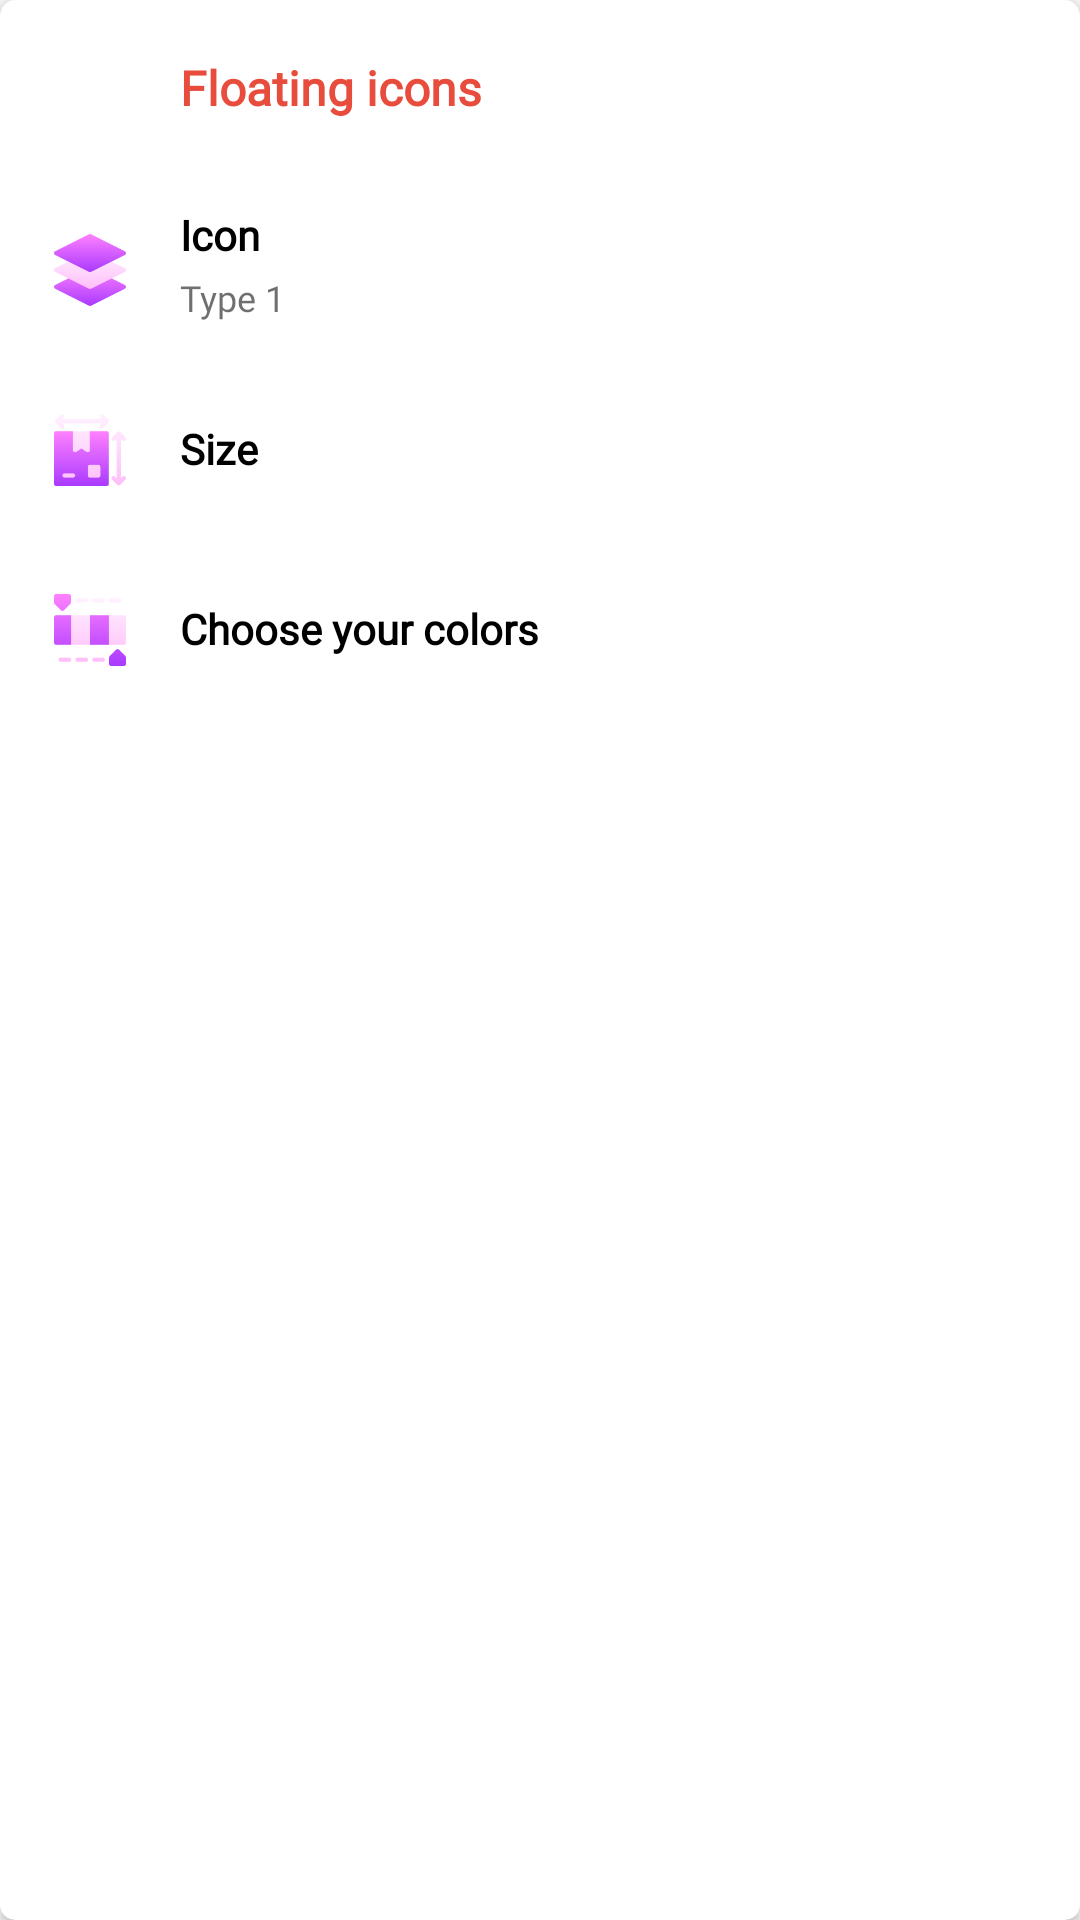

Named icons in this screenshot (1080×1920) and their centers, point (x, y):
all float: point (90, 630)
all float measure: point (90, 458)
all float type: point (90, 270)
